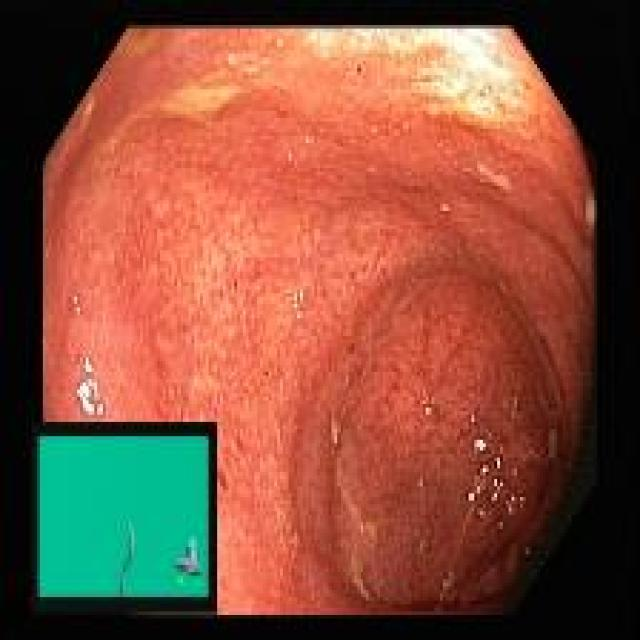ulcerative-colitis: (45, 28, 595, 615)
